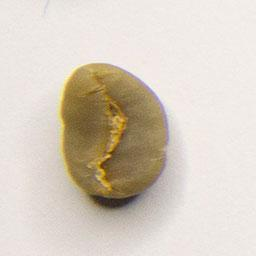premium: (55, 60, 172, 202)
